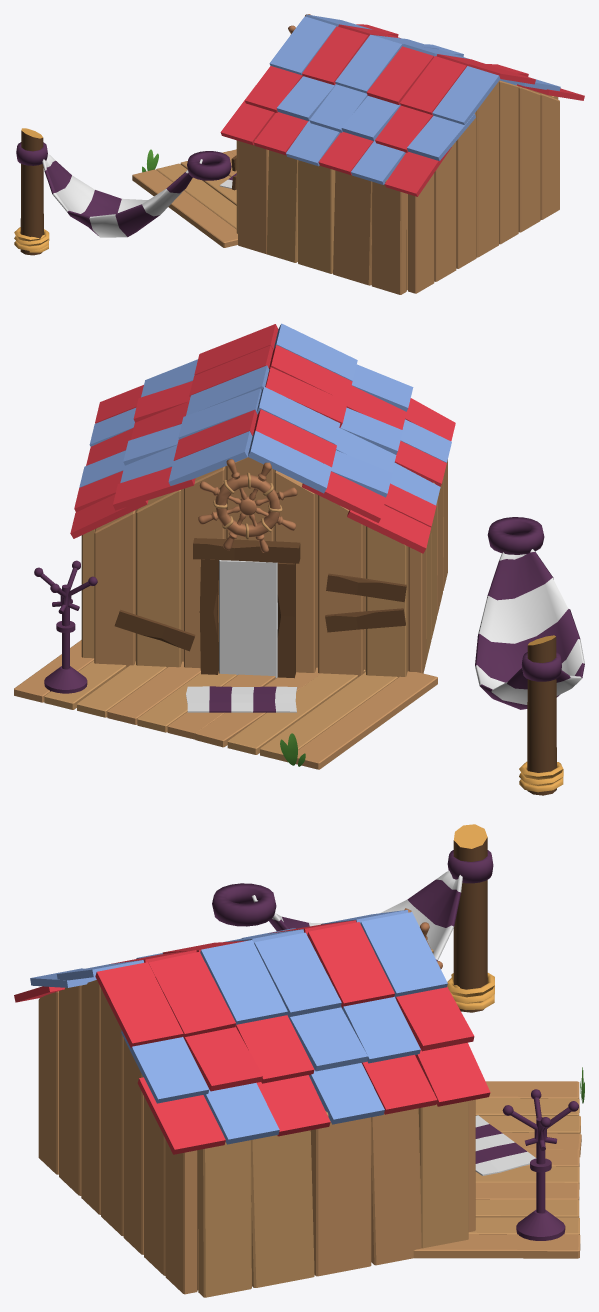
Rendered from SM_Build_04.fbx.
3 views of the same model, one above another, from view 1: azimuth 30°, elevation 25°; view 2: azimuth 150°, elevation 25°; view 3: azimuth 270°, elevation 25° (orthographic). The views are drawn at different scales.
Parts seen in each view (by area): view 1: Cube.192, Hammock.001, Column_02.010; view 2: Cube.192, Hammock.001, Column_02.010, Wheel.001, Carpet_02.001, Cylinder053.001; view 3: Cube.192, Hammock.001, Column_02.010, Cylinder053.001, Carpet_02.001.
Part boxes in pixels (bbox=[...]): Cube.192: bbox=[132, 14, 584, 294]; Hammock.001: bbox=[16, 142, 231, 237]; Column_02.010: bbox=[14, 128, 49, 255]; Cube.192: bbox=[14, 323, 455, 769]; Hammock.001: bbox=[475, 517, 584, 709]; Column_02.010: bbox=[519, 635, 563, 795]; Wheel.001: bbox=[198, 459, 297, 552]; Carpet_02.001: bbox=[186, 686, 297, 712]; Cylinder053.001: bbox=[34, 560, 97, 693]; Cube.192: bbox=[14, 910, 581, 1297]; Hammock.001: bbox=[212, 850, 493, 961]; Column_02.010: bbox=[447, 824, 494, 1012]; Cylinder053.001: bbox=[502, 1089, 578, 1240]; Carpet_02.001: bbox=[475, 1115, 536, 1175].
Bounding box in the file's own units: 17.8 × 6.93 × 13.1.
